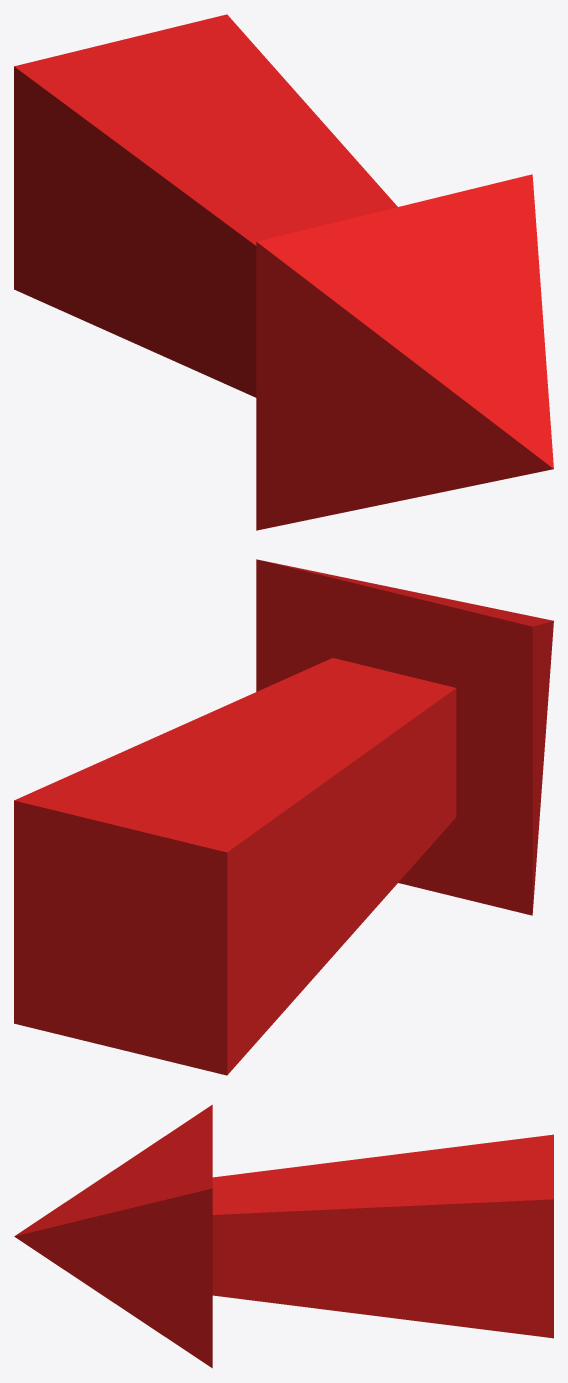
File: pijl.fbx
The picture shows the model from 3 angles, top to bottom: view 1: azimuth 30°, elevation 25°; view 2: azimuth 150°, elevation 25°; view 3: azimuth 270°, elevation 25°; orthographic projection. The views are drawn at different scales.
Parts seen in each view (by area): view 1: Pijl; view 2: Pijl; view 3: Pijl.
Part boxes in pixels (<box>): Pijl: <box>14,14,553,530</box>; Pijl: <box>14,559,553,1075</box>; Pijl: <box>14,1104,553,1368</box>.
Size of the model in its own units: 200 by 200 by 544.
